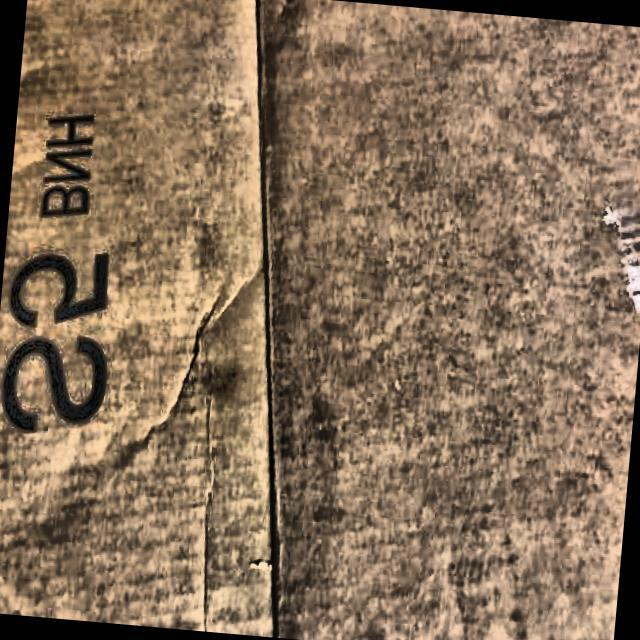cardboard: (195, 0, 640, 640), (0, 0, 336, 637)
